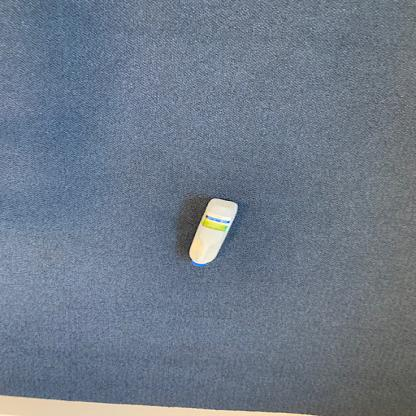trash: (187, 194, 240, 270)
